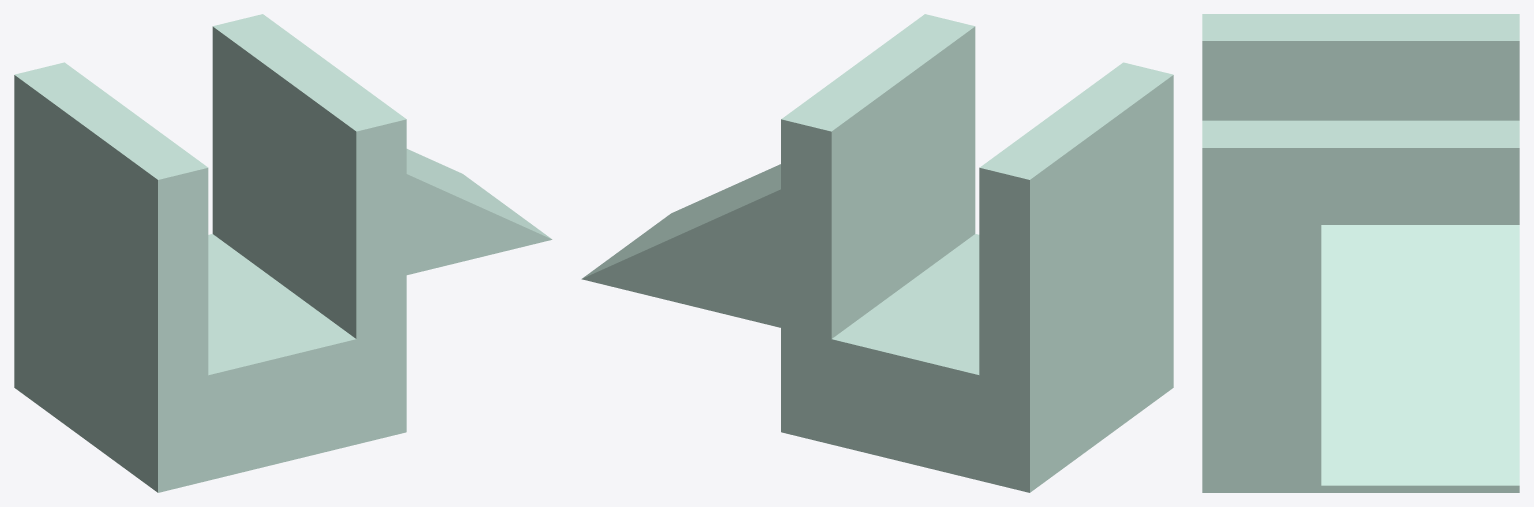
3 views of the same model, side by side, from view 1: azimuth 30°, elevation 25°; view 2: azimuth 150°, elevation 25°; view 3: azimuth 270°, elevation 25° (orthographic). The views are drawn at different scales.
Visible parts, largest first — view 1: Renderer Node; view 2: Renderer Node; view 3: Renderer Node.
Boxes of the visible parts, x1=… form: Renderer Node: x1=14, y1=14, x2=552, y2=492; Renderer Node: x1=581, y1=14, x2=1173, y2=492; Renderer Node: x1=1202, y1=14, x2=1519, y2=492.
Bounding box in the file's own units: 1.13 × 0.75 × 0.625.
